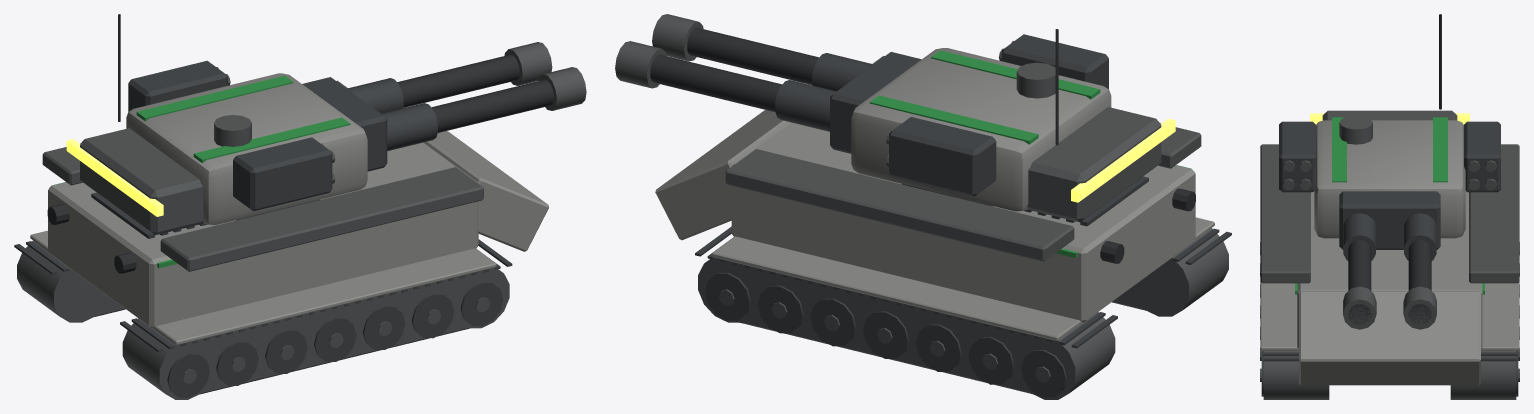
Rendered from u_tsar.glb.
3 renders of one model, left to right at view 1: azimuth 30°, elevation 25°; view 2: azimuth 150°, elevation 25°; view 3: azimuth 270°, elevation 25°, orthographic. The views are drawn at different scales.
Parts seen in each view (by area): view 1: Tsar_Walls, Tsar_turret, Tsar_Foundation, Tsar_Frame, Tsar_Details; view 2: Tsar_Walls, Tsar_turret, Tsar_Foundation, Tsar_Frame, Tsar_Details; view 3: Tsar_Walls, Tsar_turret, Tsar_Foundation, Tsar_Details, Tsar_Frame.
Part boxes in pixels (x1,y1,x2,y2): Tsar_Walls: [30, 80, 548, 345]; Tsar_turret: [66, 14, 586, 235]; Tsar_Foundation: [17, 240, 509, 399]; Tsar_Frame: [167, 282, 503, 397]; Tsar_Details: [14, 182, 512, 383]; Tsar_Walls: [655, 56, 1214, 340]; Tsar_turret: [615, 14, 1175, 222]; Tsar_Foundation: [698, 228, 1228, 399]; Tsar_Frame: [705, 272, 1066, 397]; Tsar_Details: [695, 165, 1231, 382]; Tsar_Walls: [1260, 144, 1519, 385]; Tsar_turret: [1279, 14, 1500, 329]; Tsar_Foundation: [1263, 351, 1516, 399]; Tsar_Details: [1260, 242, 1519, 381]; Tsar_Frame: [1261, 351, 1518, 396].
Bounding box in the file's own units: 2.88 × 1.77 × 1.54.
